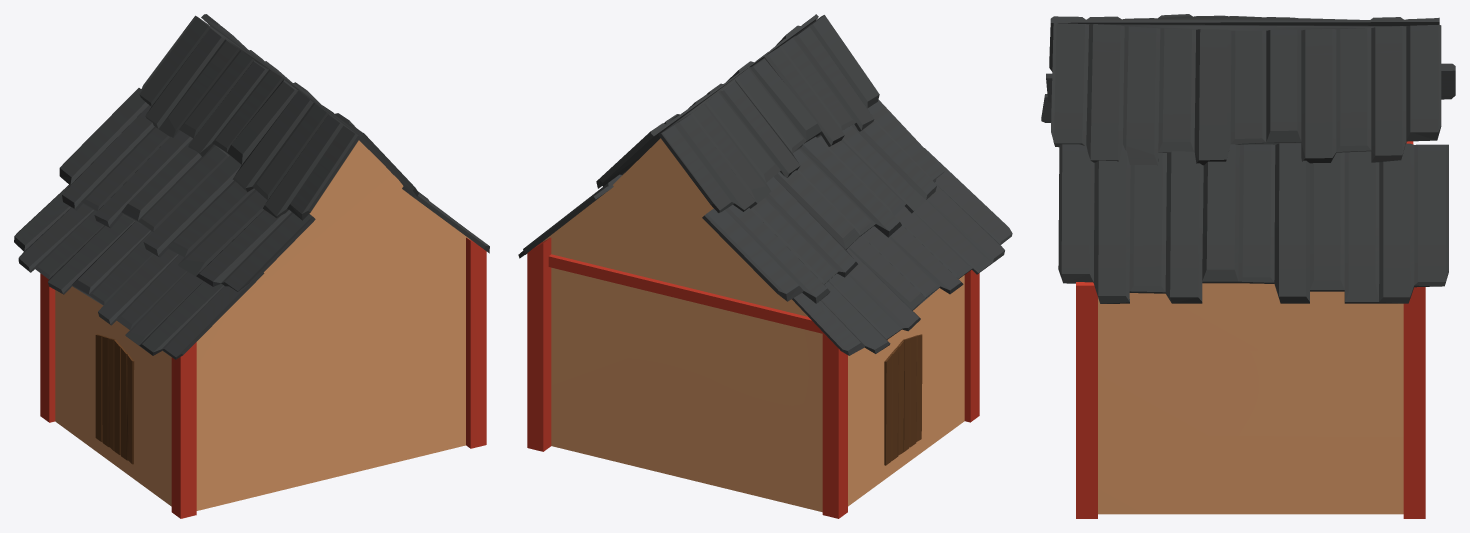
Rendered from house_1.fbx.
3 views of the same model, side by side, from view 1: azimuth 30°, elevation 25°; view 2: azimuth 150°, elevation 25°; view 3: azimuth 270°, elevation 25° (orthographic). The views are drawn at different scales.
Parts seen in each view (by area): view 1: 立方体.010, Roof_RedPlanks.007, House1_Exteriour.018; view 2: 立方体.010, Roof_RedPlanks.007, House1_Exteriour.018; view 3: Roof_RedPlanks.007, 立方体.010.
Boxes of the visible parts, x1,y1,x2,y2 form: 立方体.010: (40,140,486,518); Roof_RedPlanks.007: (14,14,489,359); House1_Exteriour.018: (95,334,134,464); 立方体.010: (527,138,979,518); Roof_RedPlanks.007: (518,14,1012,355); House1_Exteriour.018: (884,334,922,465); Roof_RedPlanks.007: (1041,14,1455,303); 立方体.010: (1076,141,1425,518).
Size of the model in its own units: 213 by 208 by 184.
